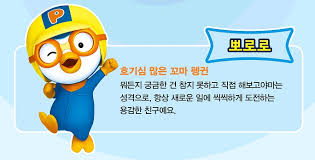Pororo: (25, 1, 119, 153)
